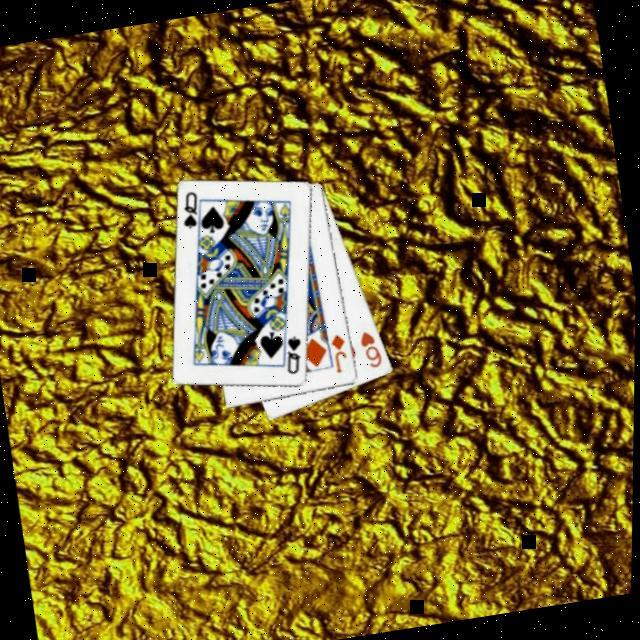6H: (355, 328, 387, 376)
JD: (326, 332, 353, 378)
QS: (279, 334, 309, 381), (174, 190, 203, 235)
